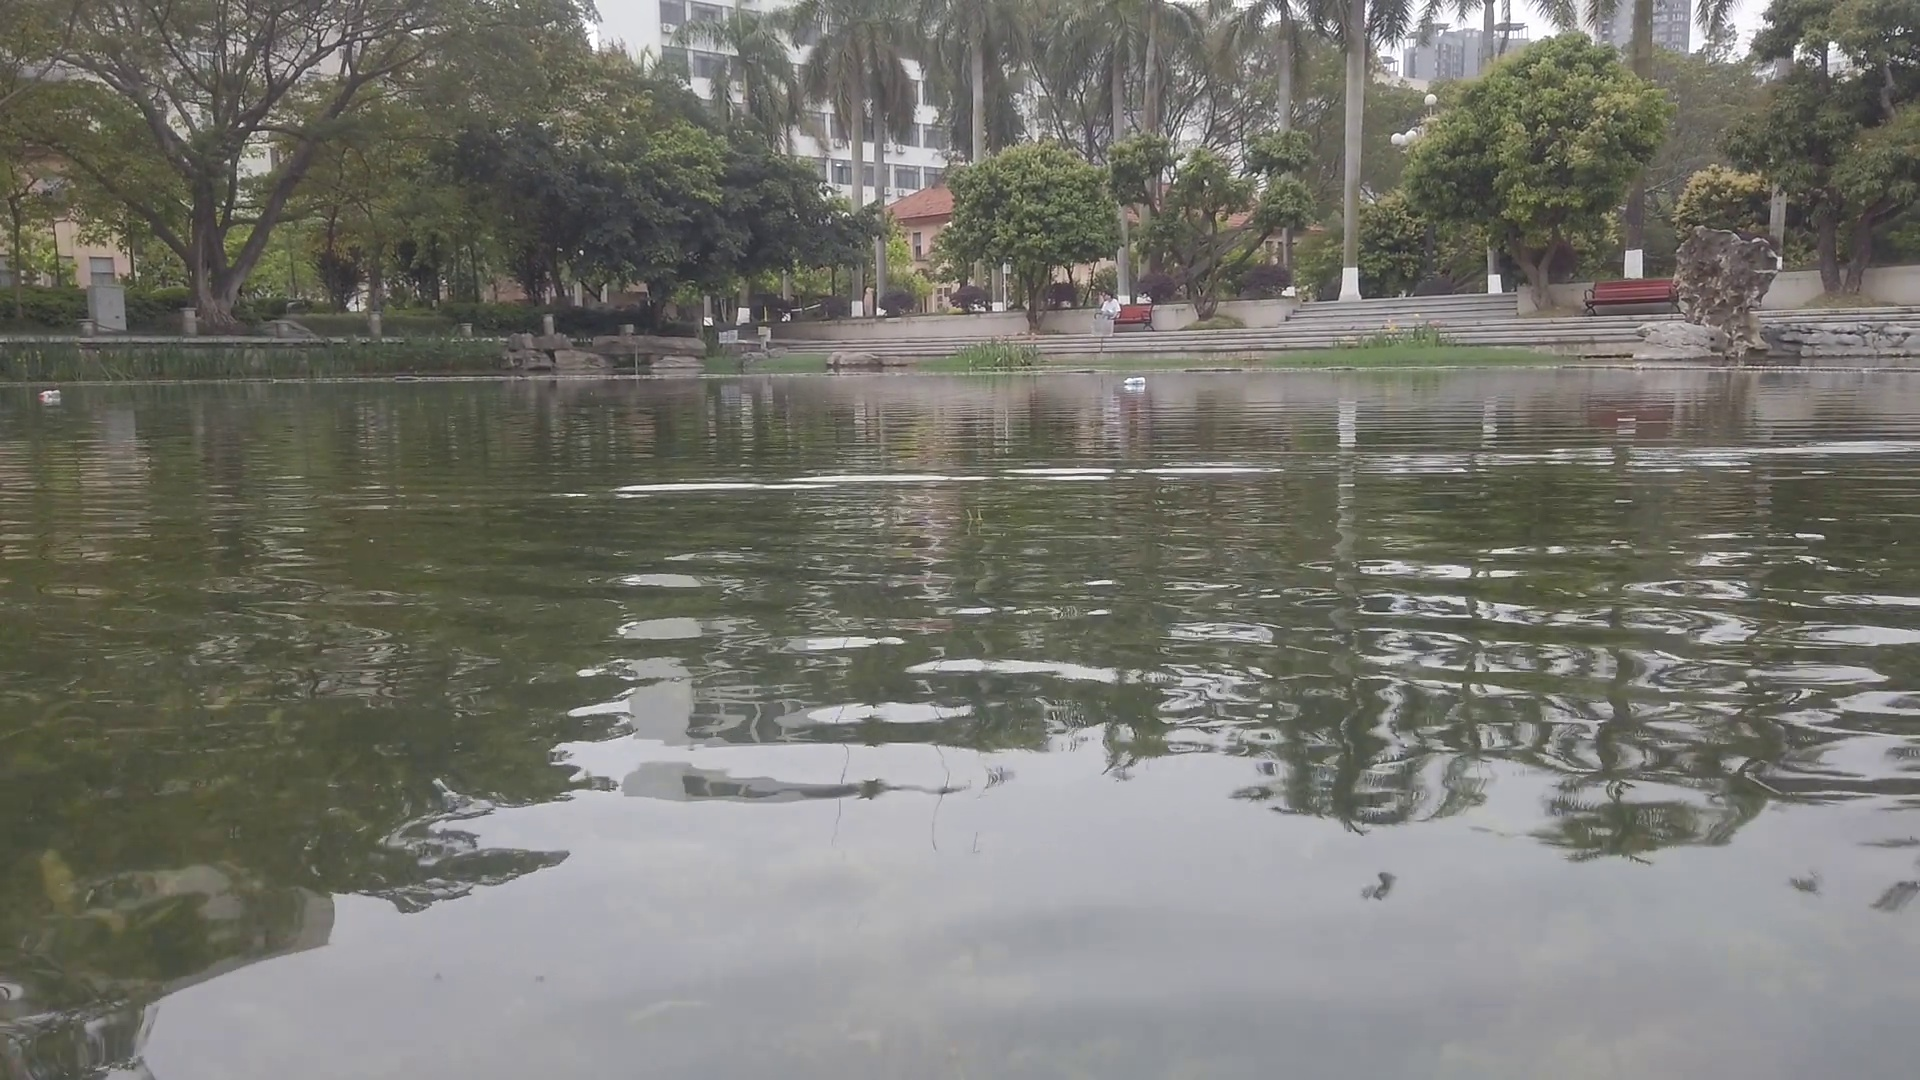bottle: (1124, 376, 1149, 385), (40, 390, 61, 400)
